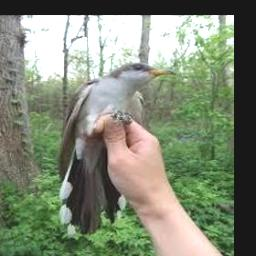Cuckoo: (59, 62, 175, 234)
